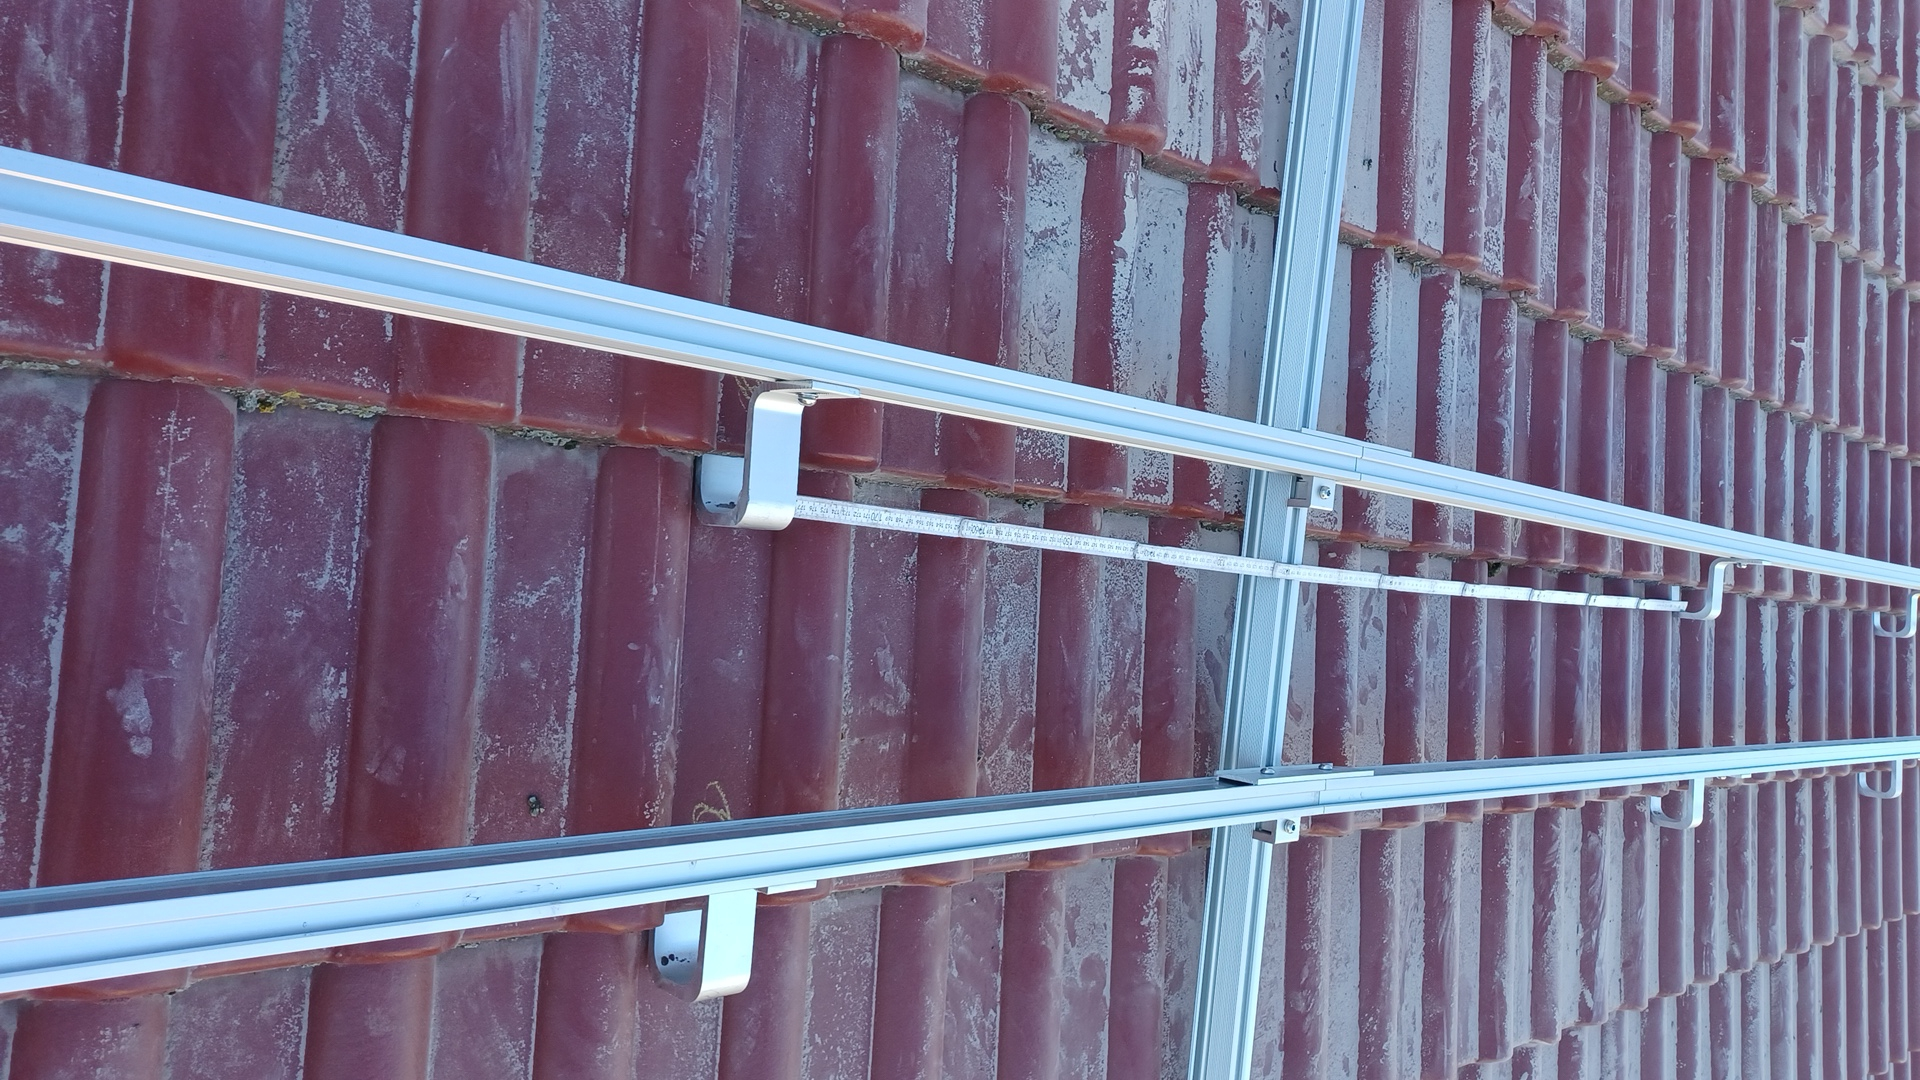hook: (692, 378, 861, 530), (649, 881, 816, 1004), (1671, 558, 1772, 621), (1648, 778, 1704, 829), (1873, 591, 1920, 637), (1858, 761, 1902, 798)
